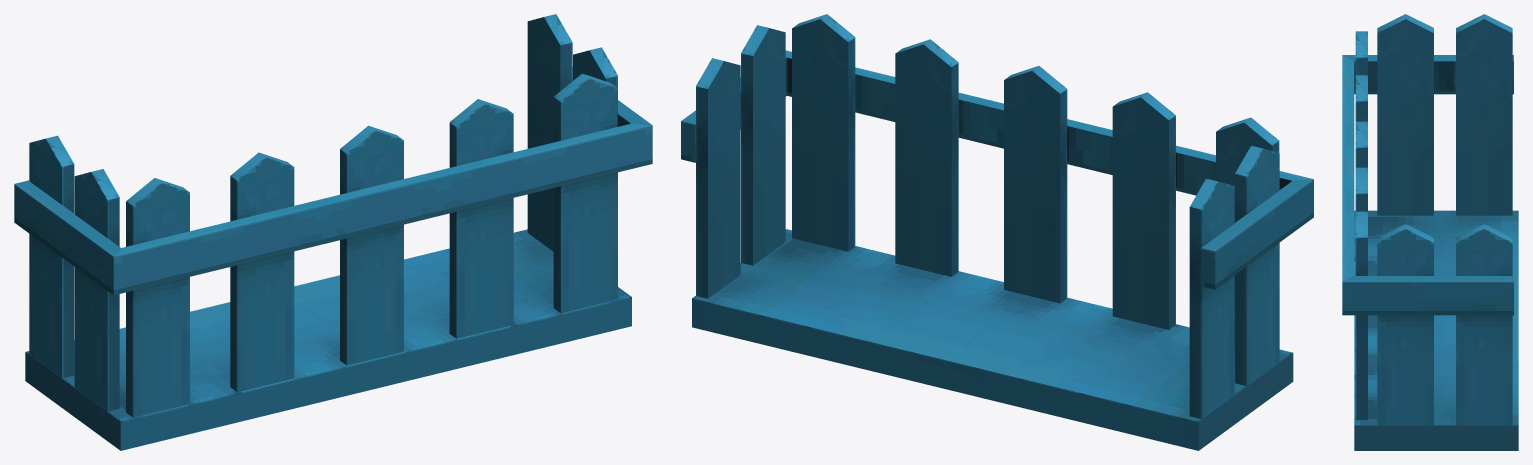
File: furni_0200041_02.FBX
3 views of the same model, side by side, from view 1: azimuth 30°, elevation 25°; view 2: azimuth 150°, elevation 25°; view 3: azimuth 270°, elevation 25° (orthographic). The views are drawn at different scales.
Visible parts, largest first — view 1: furni_0200041; view 2: furni_0200041; view 3: furni_0200041.
Part boxes in pixels (x1=…): furni_0200041: x1=14, y1=14, x2=652, y2=450; furni_0200041: x1=681, y1=14, x2=1313, y2=450; furni_0200041: x1=1342, y1=14, x2=1518, y2=450.
Bounding box in the file's own units: 79.42 × 36.21 × 26.12.
Materials: 1 (1 with a texture image).
